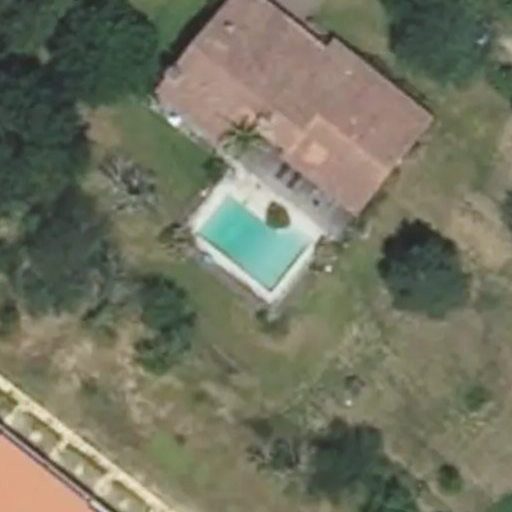pool: (196, 234, 314, 237)
